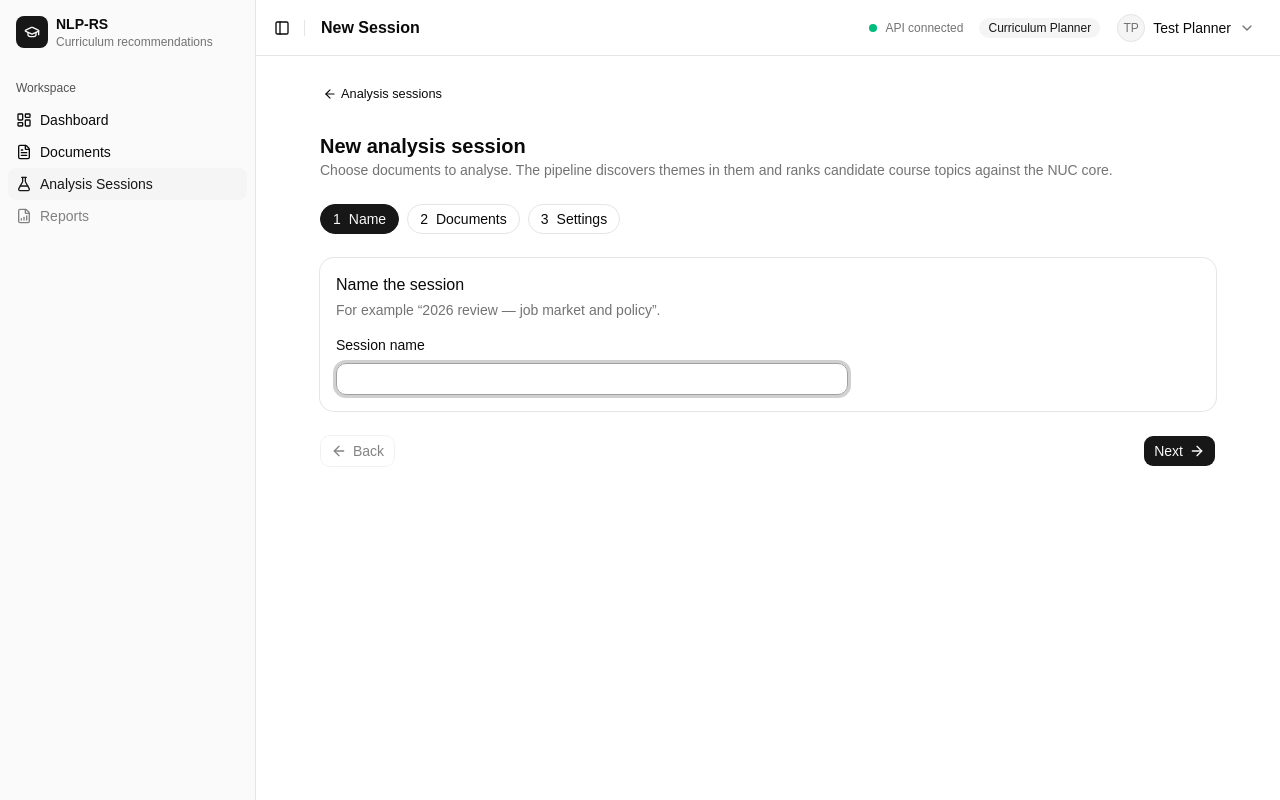
Test case: NewSessionPage › checks that the weights add up to 1 before creating
Type "Synthetic review" into the field labelled "Session name". click: (592, 379)
box: [336,363,848,395]
Click the button "Next". click: (1180, 451)
box: [1143,435,1216,467]
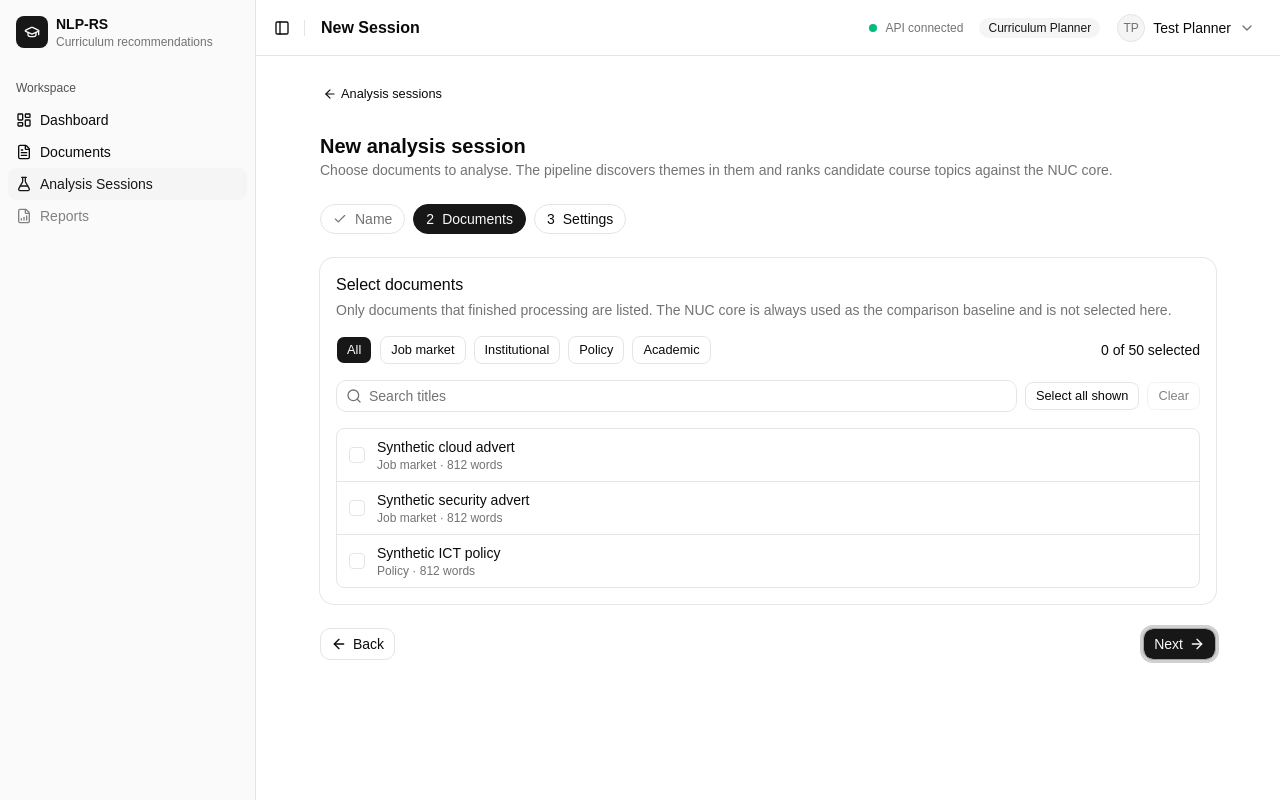
Click the checkbox named "Synthetic cloud advert" next to "Synthetic cloud advert". click: (357, 455)
box: [349,447,365,463]
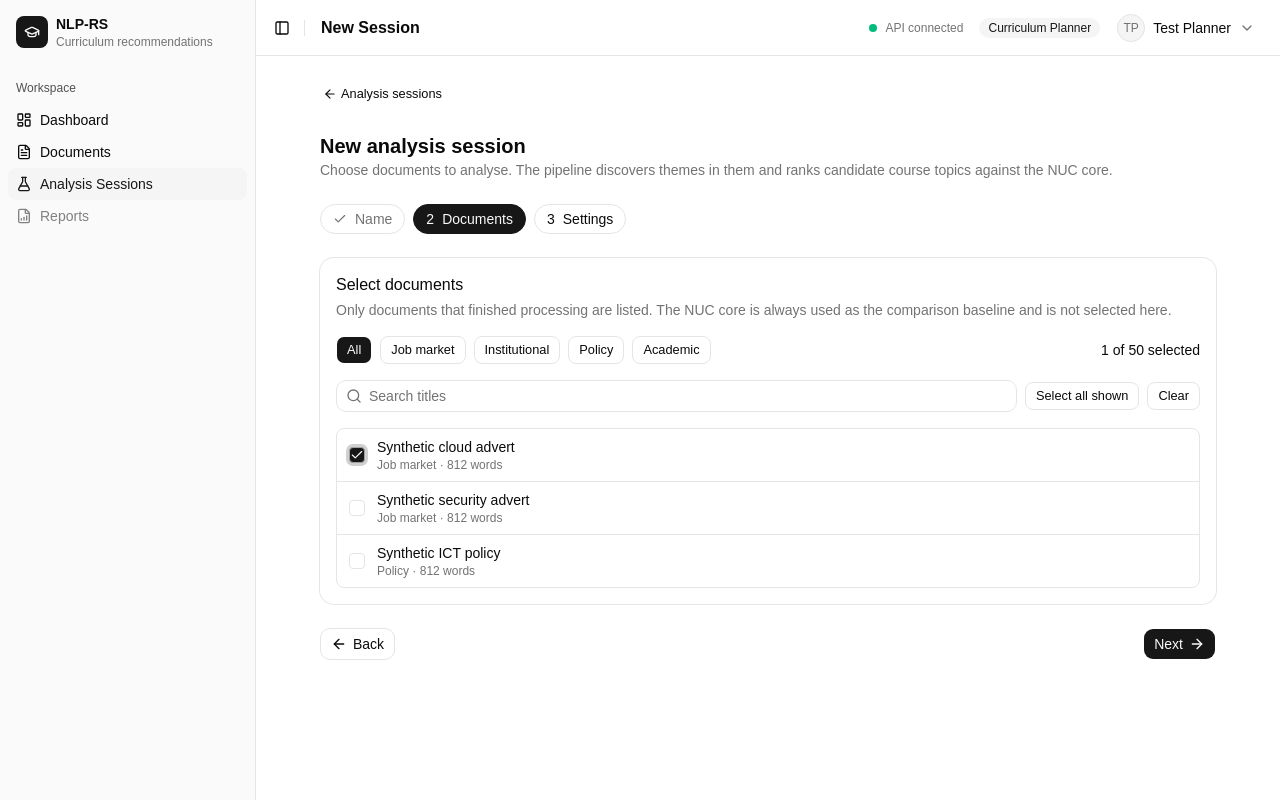
Click the checkbox named "Synthetic ICT policy" next to "Synthetic ICT policy". click: (357, 561)
box: [349,553,365,569]
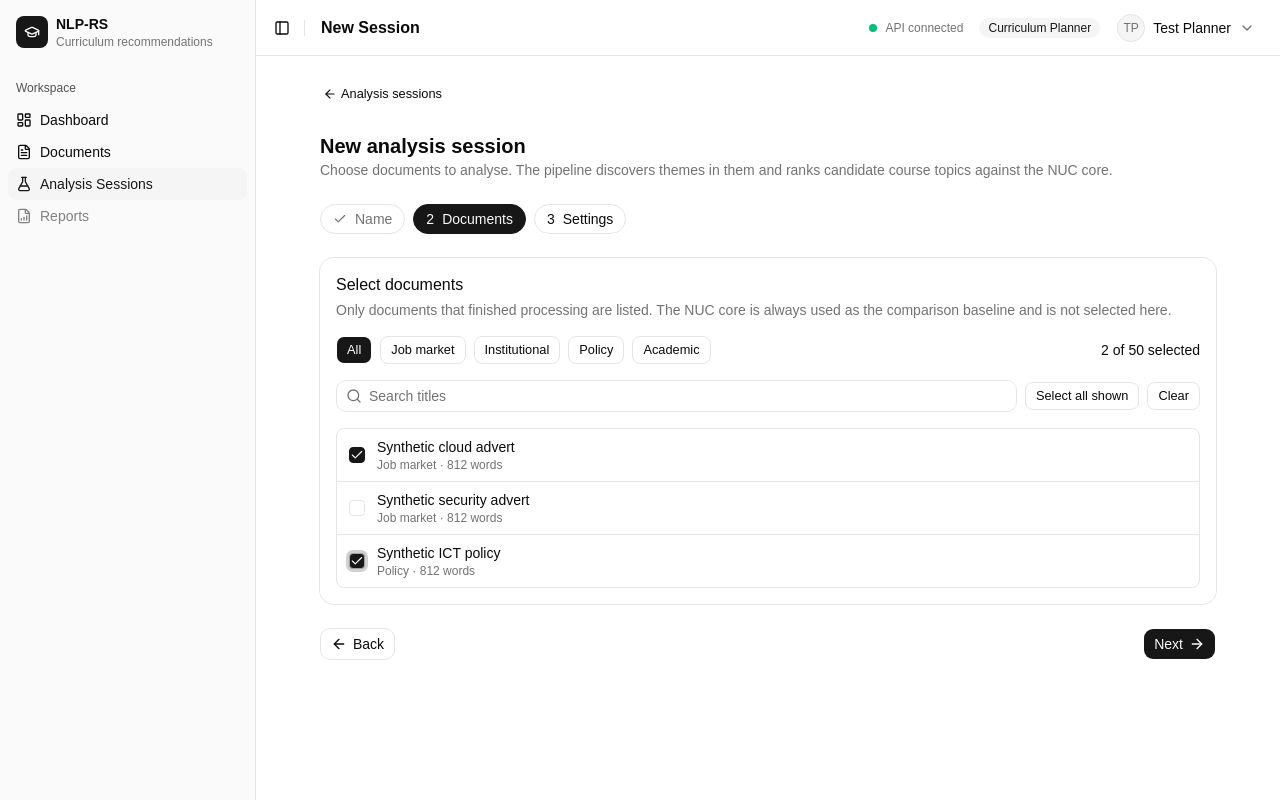
Now the text "2 of 50 selected" is shown, box [1101,340,1200,360]
Click the button "Next". click: (1180, 644)
box: [1143,628,1216,660]
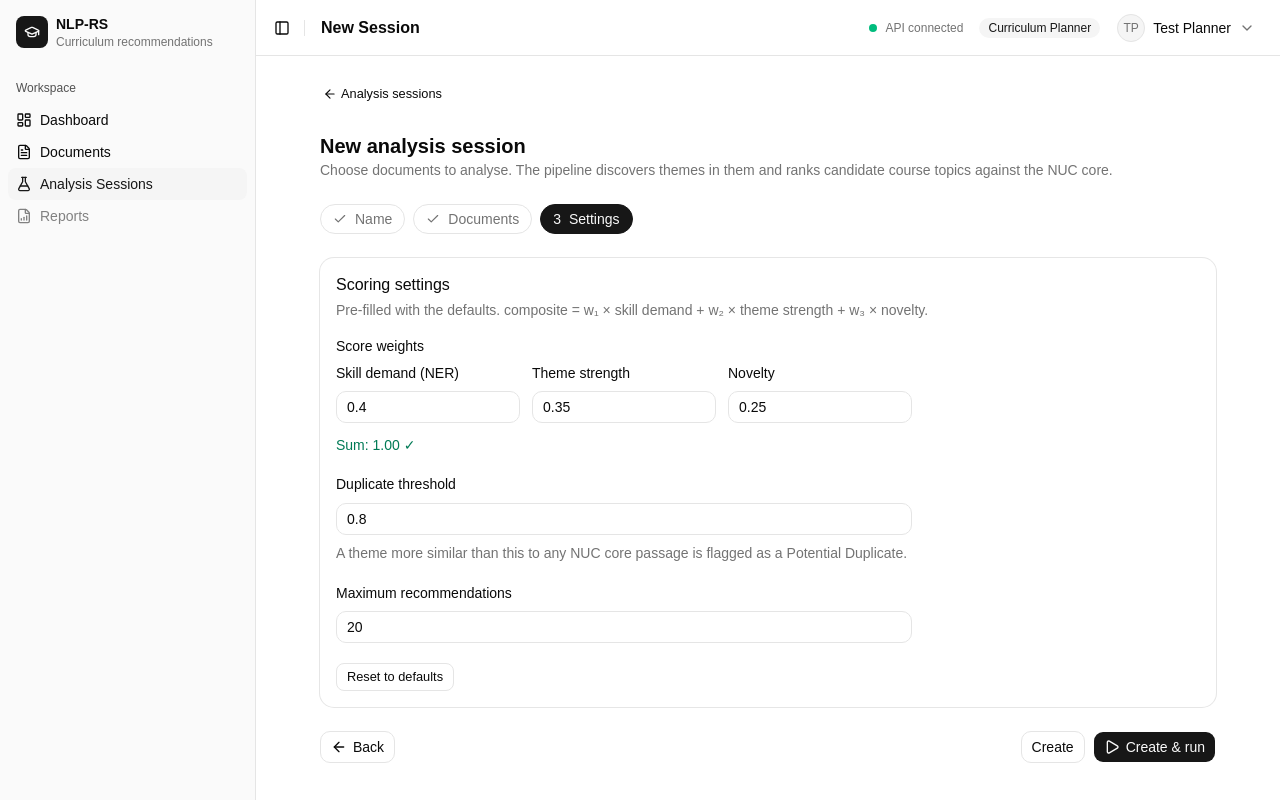
Now the number field labelled "Skill demand (NER)" holds "0.4"
Now the text "Sum: 1.00 ✓" is shown, box [336,437,416,453]
Replace the text in the number field labelled "Skill demand (NER)" with "0.6". click: (428, 407)
box: [336,391,520,423]
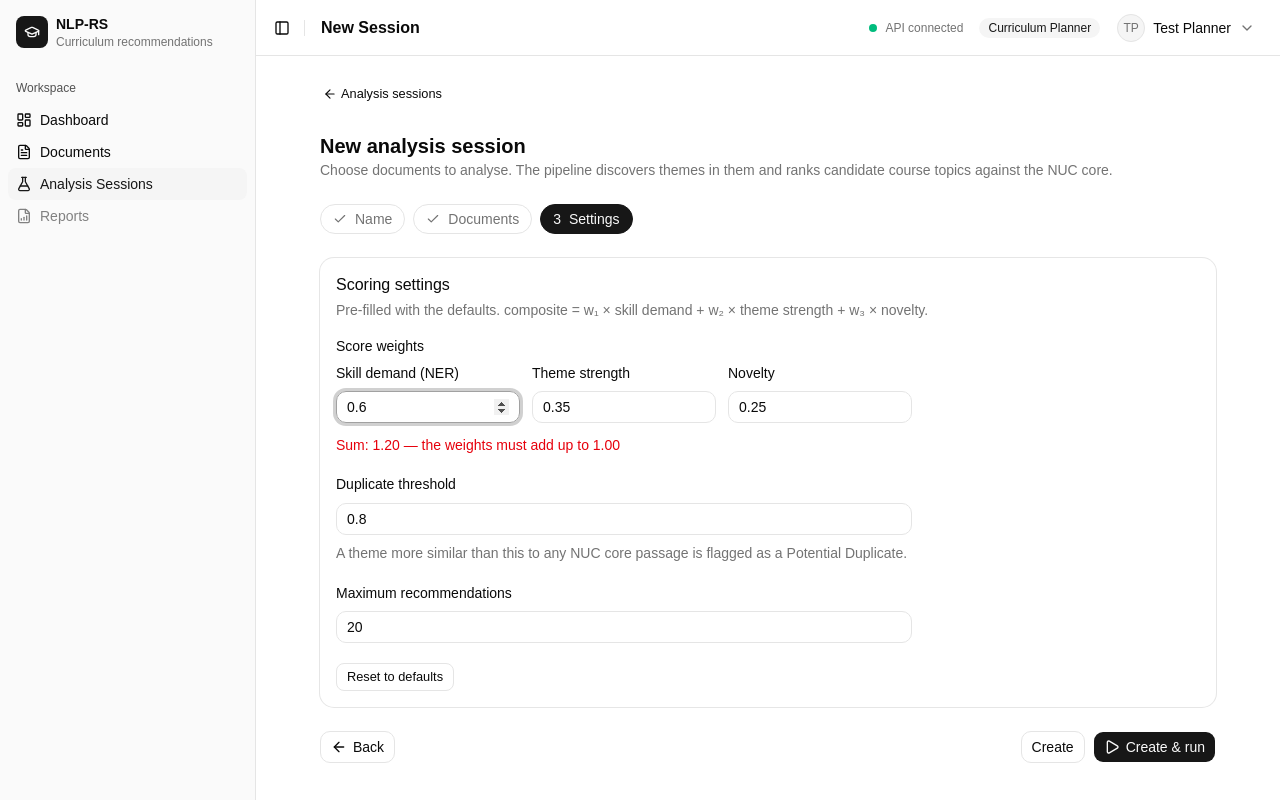
Now the text "Sum: 1.20 — the weights must add up to 1.00" is shown, box [336,437,620,453]
Click the button "Create". click: (1053, 747)
box: [1021,731,1085,763]
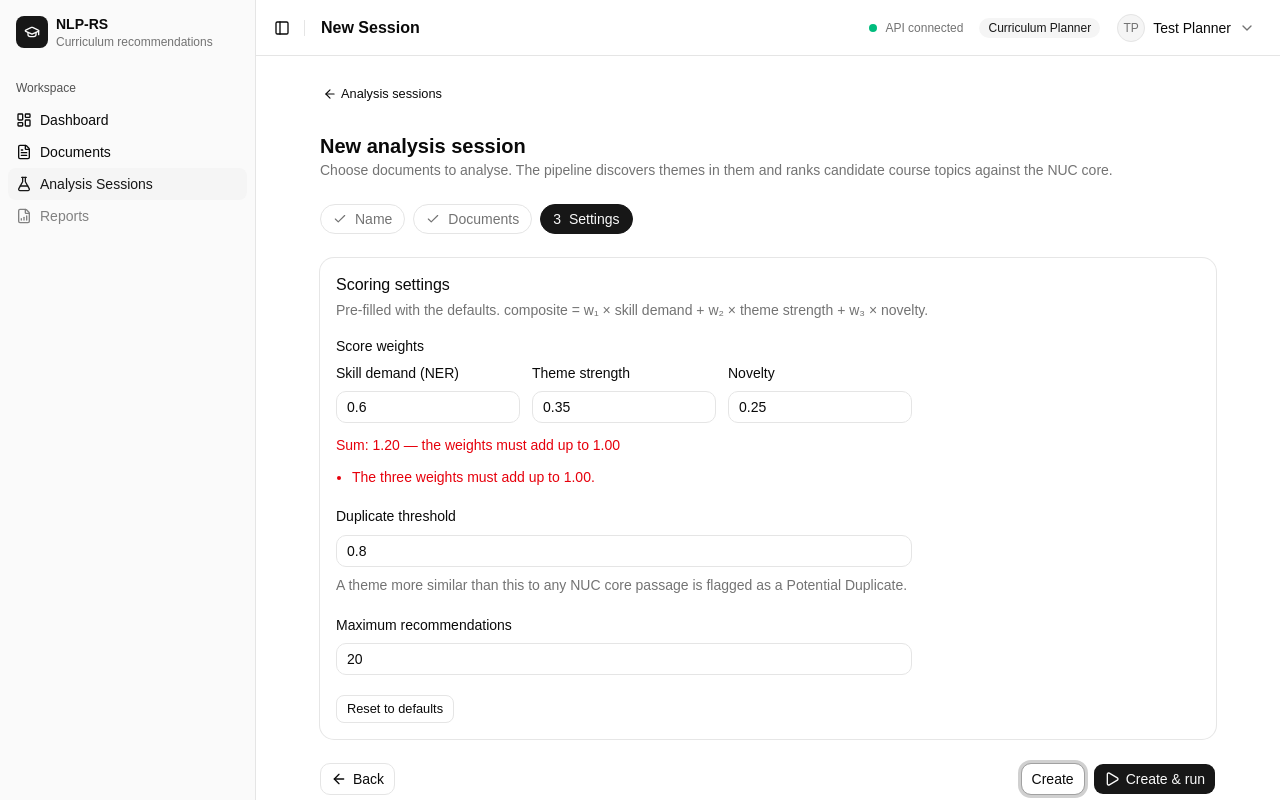
Now the list item "The three weights must add up to 1.00." is shown, box [352,469,595,485]
